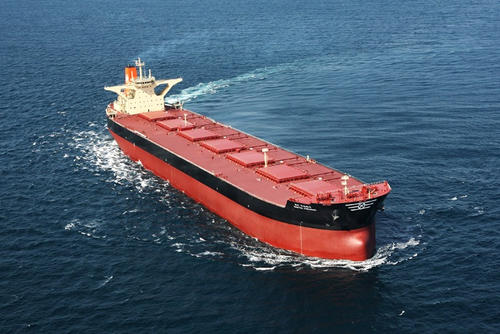Cargoship: (98, 57, 394, 259)
